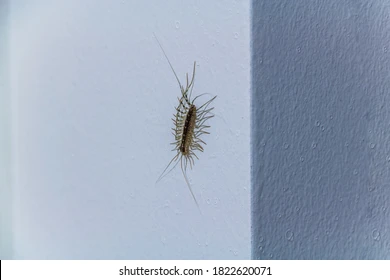centipede: (157, 59, 220, 210)
